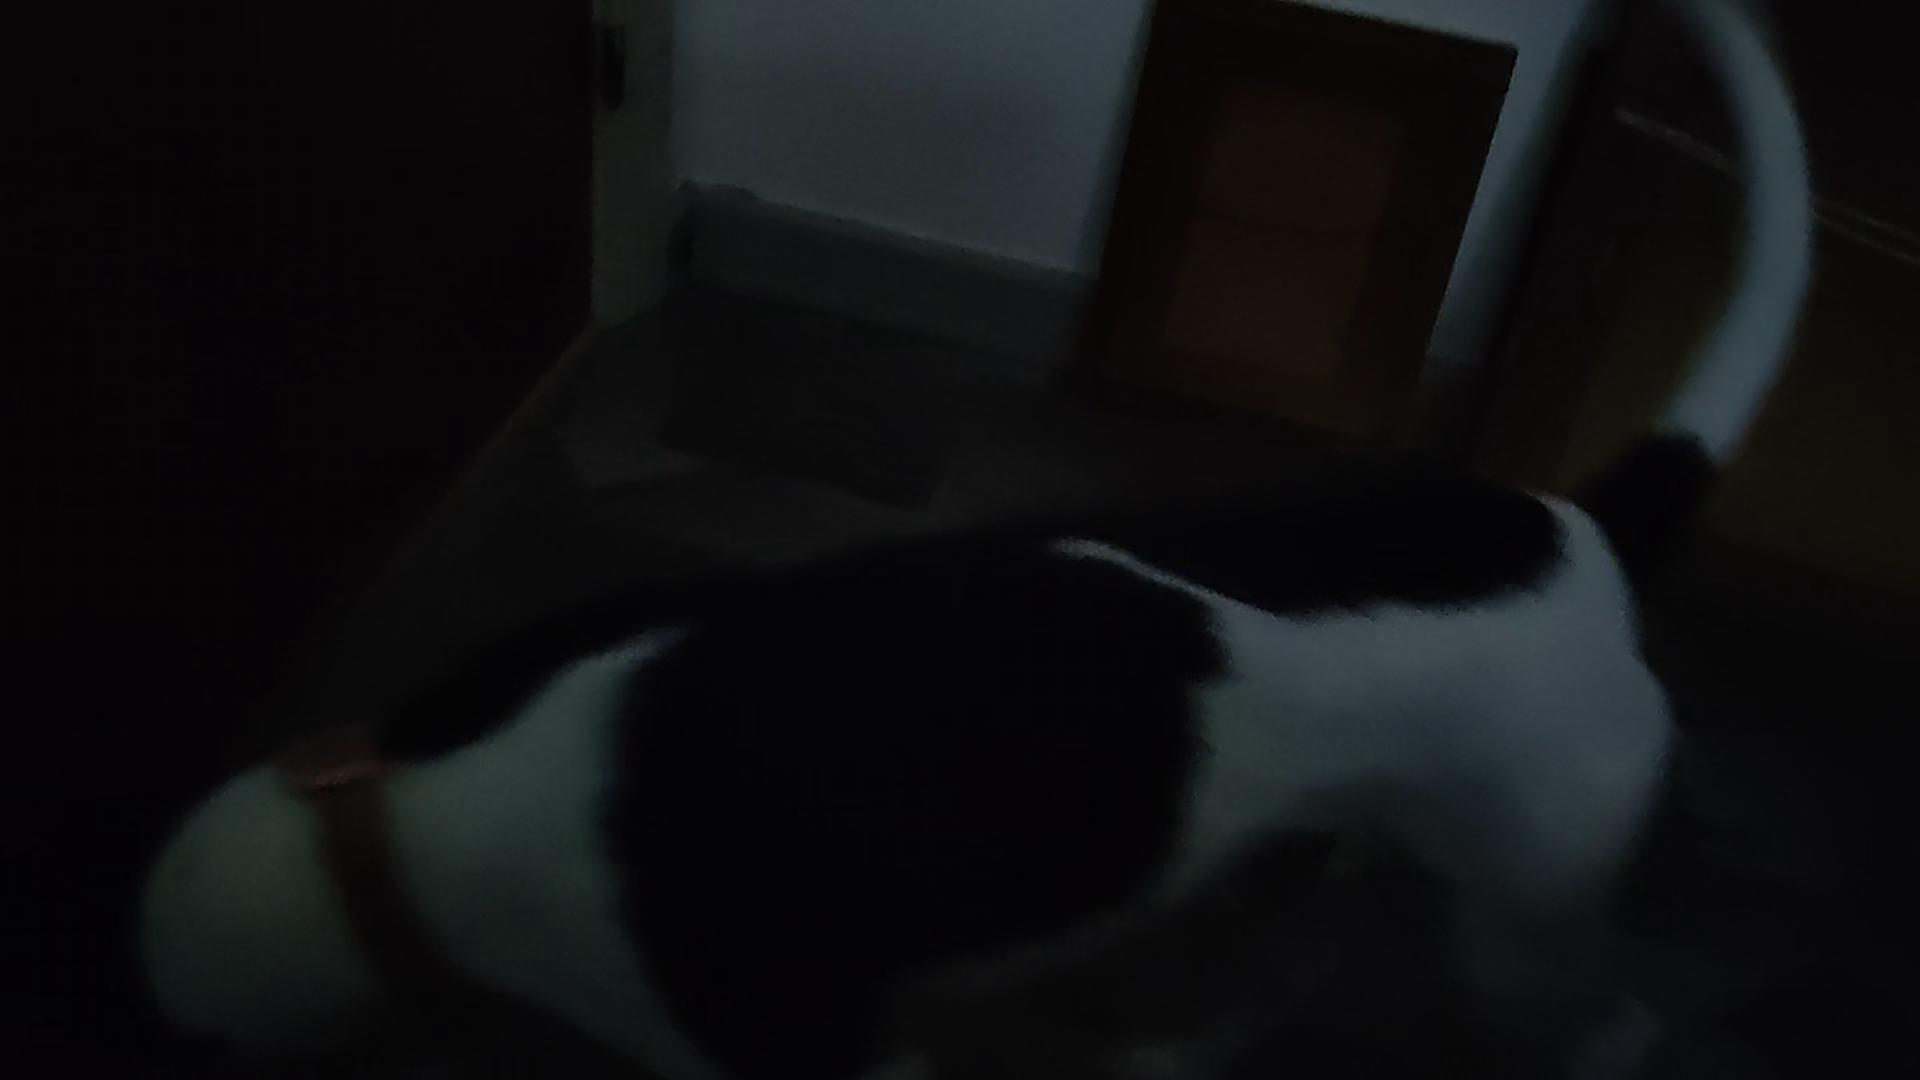Dog: (69, 0, 1818, 1079)
